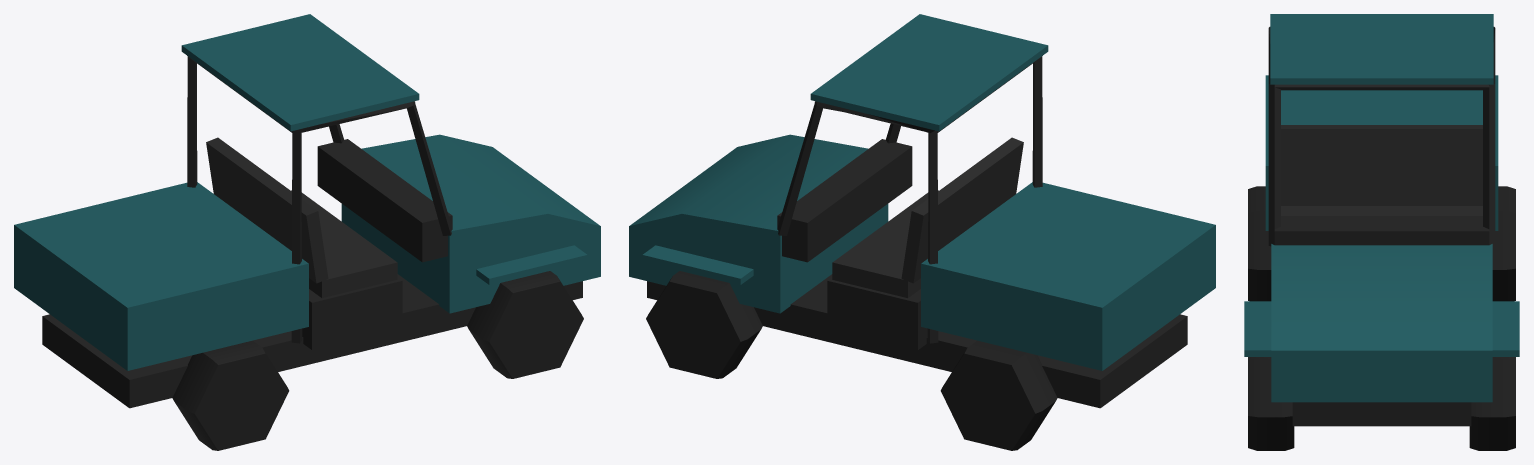
Rendered from SM_Prop_farm_buggy_0_LOD2.glb.
3 renders of one model, left to right at view 1: azimuth 30°, elevation 25°; view 2: azimuth 150°, elevation 25°; view 3: azimuth 270°, elevation 25°, orthographic. The views are drawn at different scales.
Visible parts, largest first — view 1: SM_Prop_farm_buggy_0_LOD2; view 2: SM_Prop_farm_buggy_0_LOD2; view 3: SM_Prop_farm_buggy_0_LOD2.
Part boxes in pixels (<box>): SM_Prop_farm_buggy_0_LOD2: <box>14,14,600,450</box>; SM_Prop_farm_buggy_0_LOD2: <box>629,14,1215,450</box>; SM_Prop_farm_buggy_0_LOD2: <box>1244,14,1519,450</box>.
Bounding box in the file's own units: 3.15 × 1.9 × 1.54.
